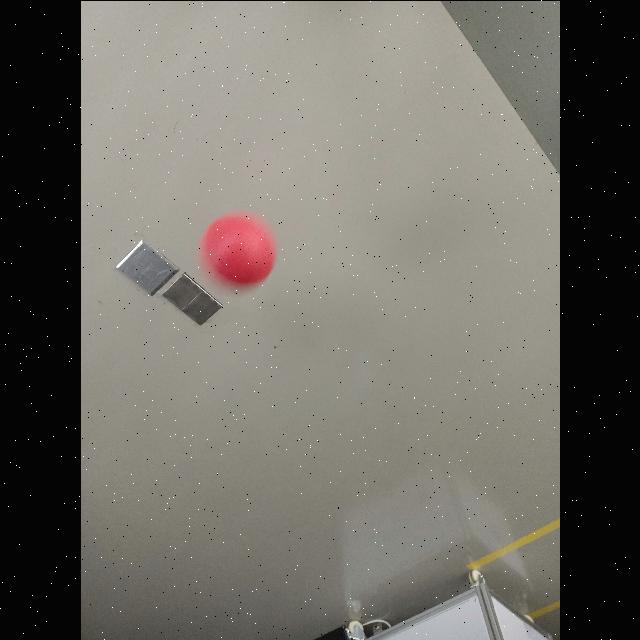R: (200, 212, 278, 286)
